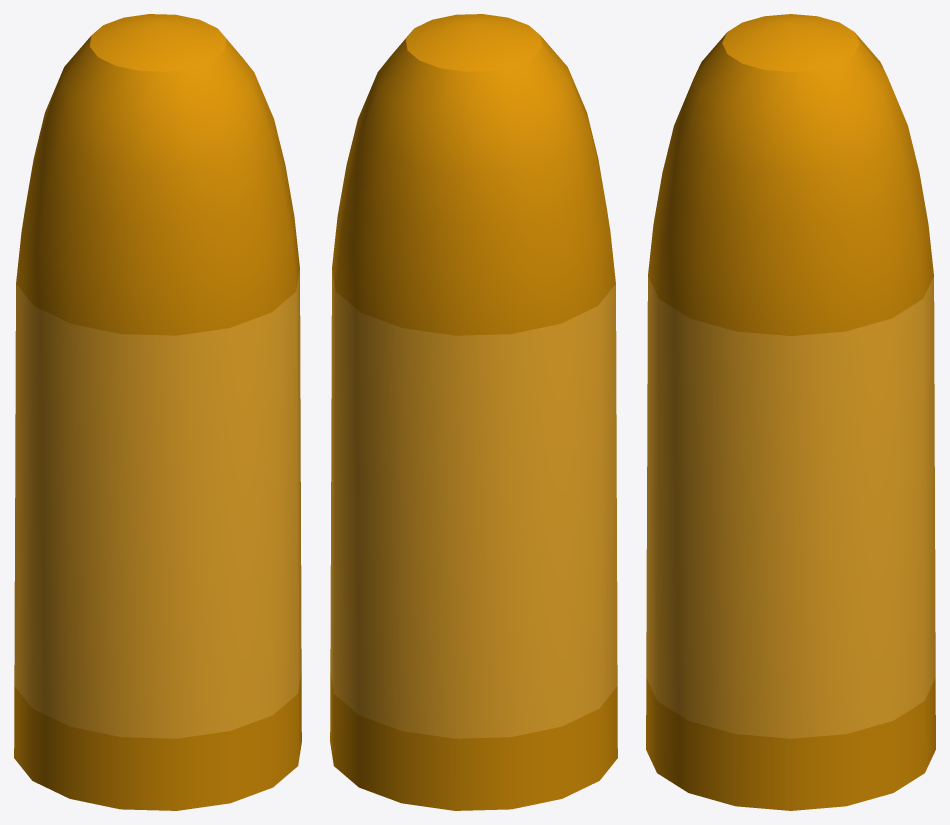
File: Bullet.fbx
3 views of the same model, side by side, from view 1: azimuth 30°, elevation 25°; view 2: azimuth 150°, elevation 25°; view 3: azimuth 270°, elevation 25° (orthographic).
Parts seen in each view (by area): view 1: Bullet; view 2: Bullet; view 3: Bullet.
Part boxes in pixels (x1,y1,x2,y2): Bullet: (14,14,301,810); Bullet: (330,14,617,810); Bullet: (646,14,935,810).
Size of the model in its own units: 0.0664 by 0.1833 by 0.0664.
